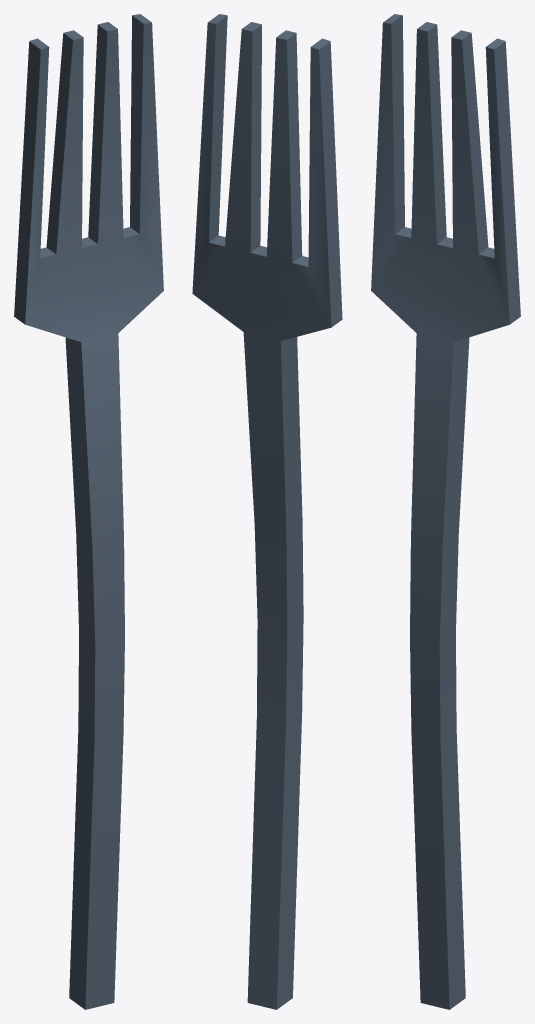
Rendered from Fork.fbx.
3 views of the same model, side by side, from view 1: azimuth 30°, elevation 25°; view 2: azimuth 150°, elevation 25°; view 3: azimuth 330°, elevation 25° (orthographic).
Visible parts, largest first — view 1: Cube; view 2: Cube; view 3: Cube.
Boxes of the visible parts, x1,y1,x2,y2 form: Cube: (14, 14, 163, 1009); Cube: (192, 14, 342, 1009); Cube: (371, 14, 520, 1009).
Bounding box in the file's own units: 0.03 × 0.2 × 0.0112.
